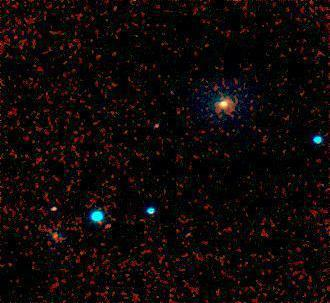star: (100, 213, 130, 243)
